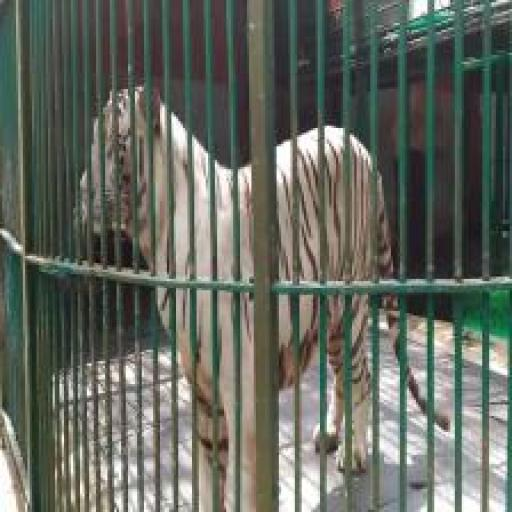Tiger: (55, 48, 459, 512)
